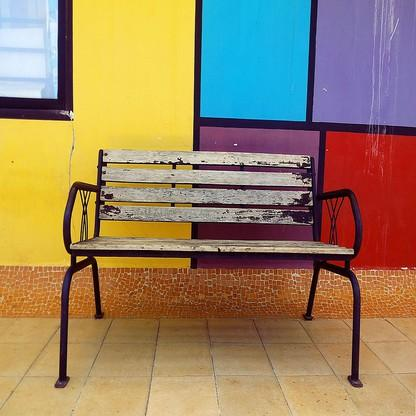obstacle: (39, 129, 388, 409)
